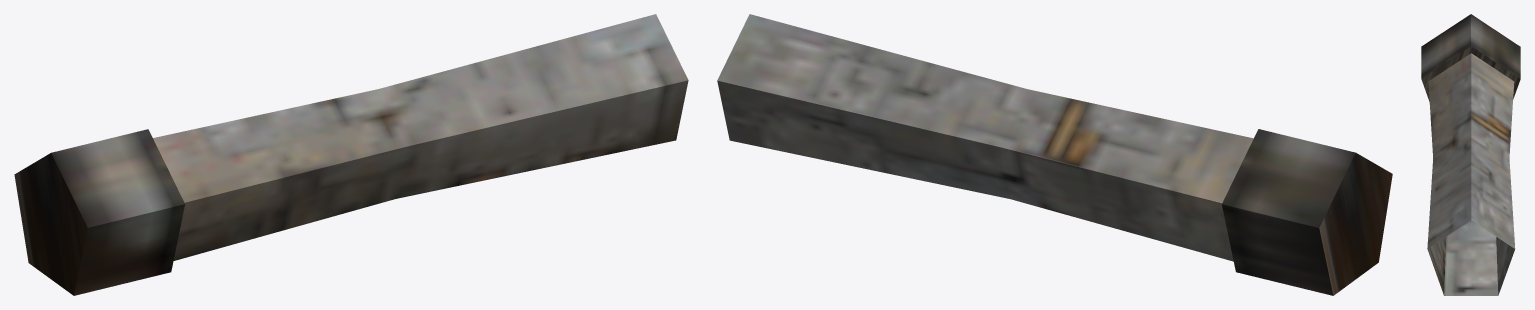
File: Rohr_StückDünn [Favellas]_1485.glb
3 views of the same model, side by side, from view 1: azimuth 30°, elevation 25°; view 2: azimuth 150°, elevation 25°; view 3: azimuth 270°, elevation 25° (orthographic). The views are drawn at different scales.
Parts seen in each view (by area): view 1: pCylinderShape79, pCylinderShape80; view 2: pCylinderShape79, pCylinderShape80; view 3: pCylinderShape79, pCylinderShape80.
Boxes of the visible parts, bbox=[...] form: pCylinderShape79: bbox=[153, 14, 688, 260]; pCylinderShape80: bbox=[14, 129, 184, 295]; pCylinderShape79: bbox=[717, 14, 1253, 261]; pCylinderShape80: bbox=[1222, 129, 1392, 295]; pCylinderShape79: bbox=[1427, 53, 1515, 295]; pCylinderShape80: bbox=[1421, 14, 1520, 101].
Bounding box in the file's own units: 0.545 × 0.109 × 0.1145.
2 materials, 2 textured.
